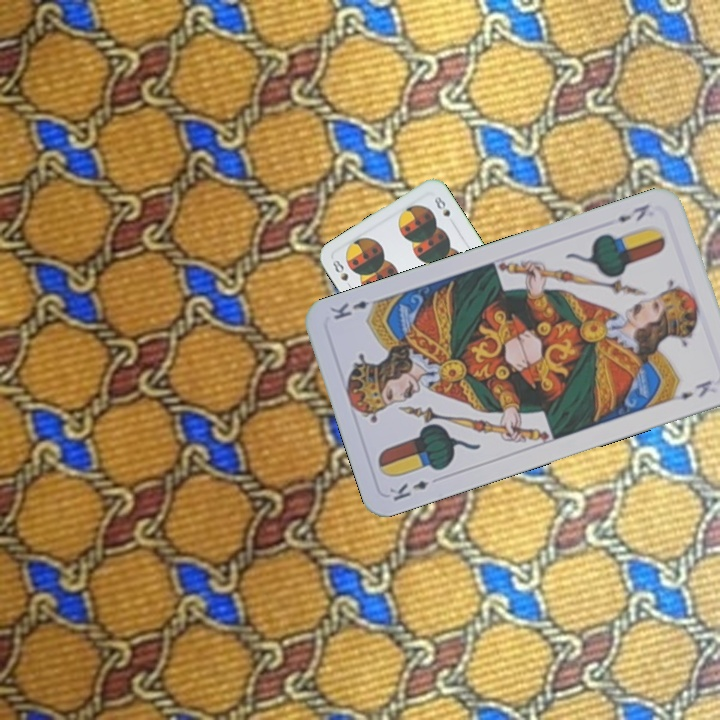EK: (385, 476, 431, 504), (613, 199, 653, 225)
S8: (328, 256, 356, 293)
